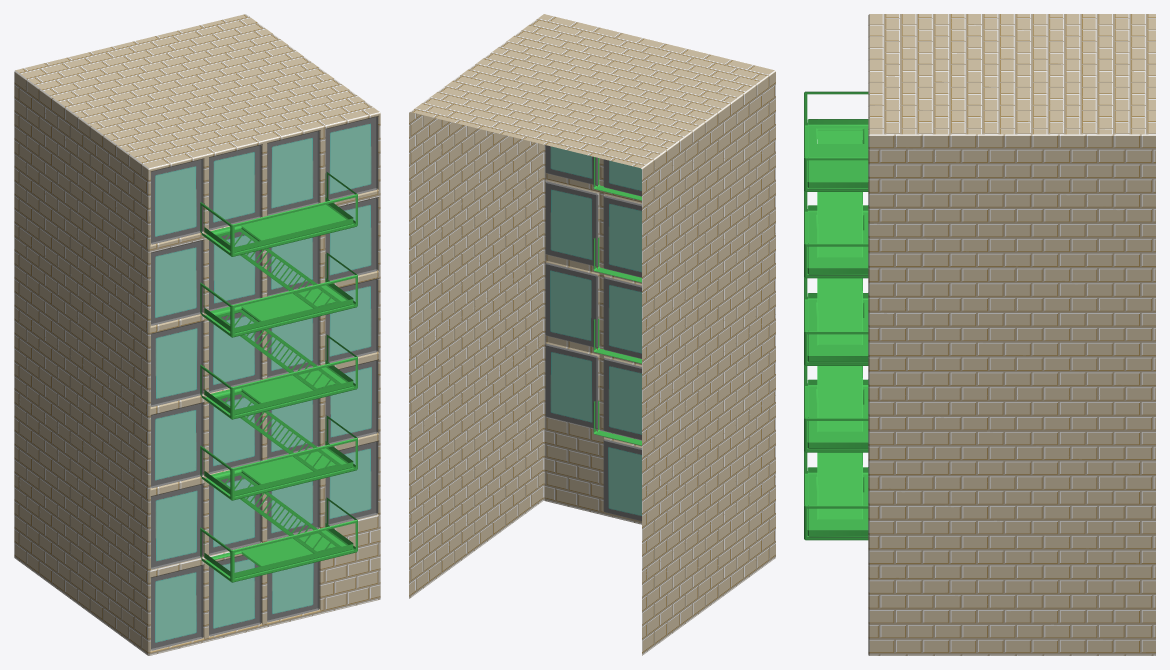
The model's file is Building4.fbx.
3 views of the same model, side by side, from view 1: azimuth 30°, elevation 25°; view 2: azimuth 150°, elevation 25°; view 3: azimuth 270°, elevation 25° (orthographic). The views are drawn at different scales.
Parts seen in each view (by area): view 1: Building4; view 2: Building4; view 3: Building4.
Part boxes in pixels (x1,y1,x2,y2): Building4: (14,14,380,655); Building4: (409,14,775,655); Building4: (804,14,1155,655).
Bounding box in the file's own units: 1000 × 2000 × 1224.
Materials: 1 (1 with a texture image).
